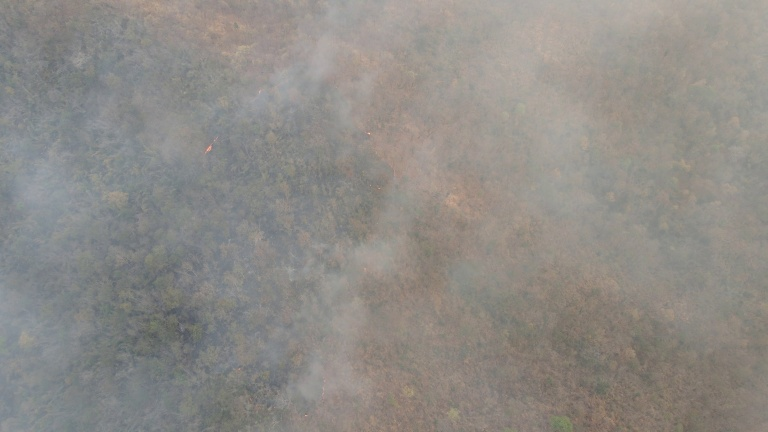fire: (193, 134, 223, 168)
smoke: (1, 1, 768, 428)
